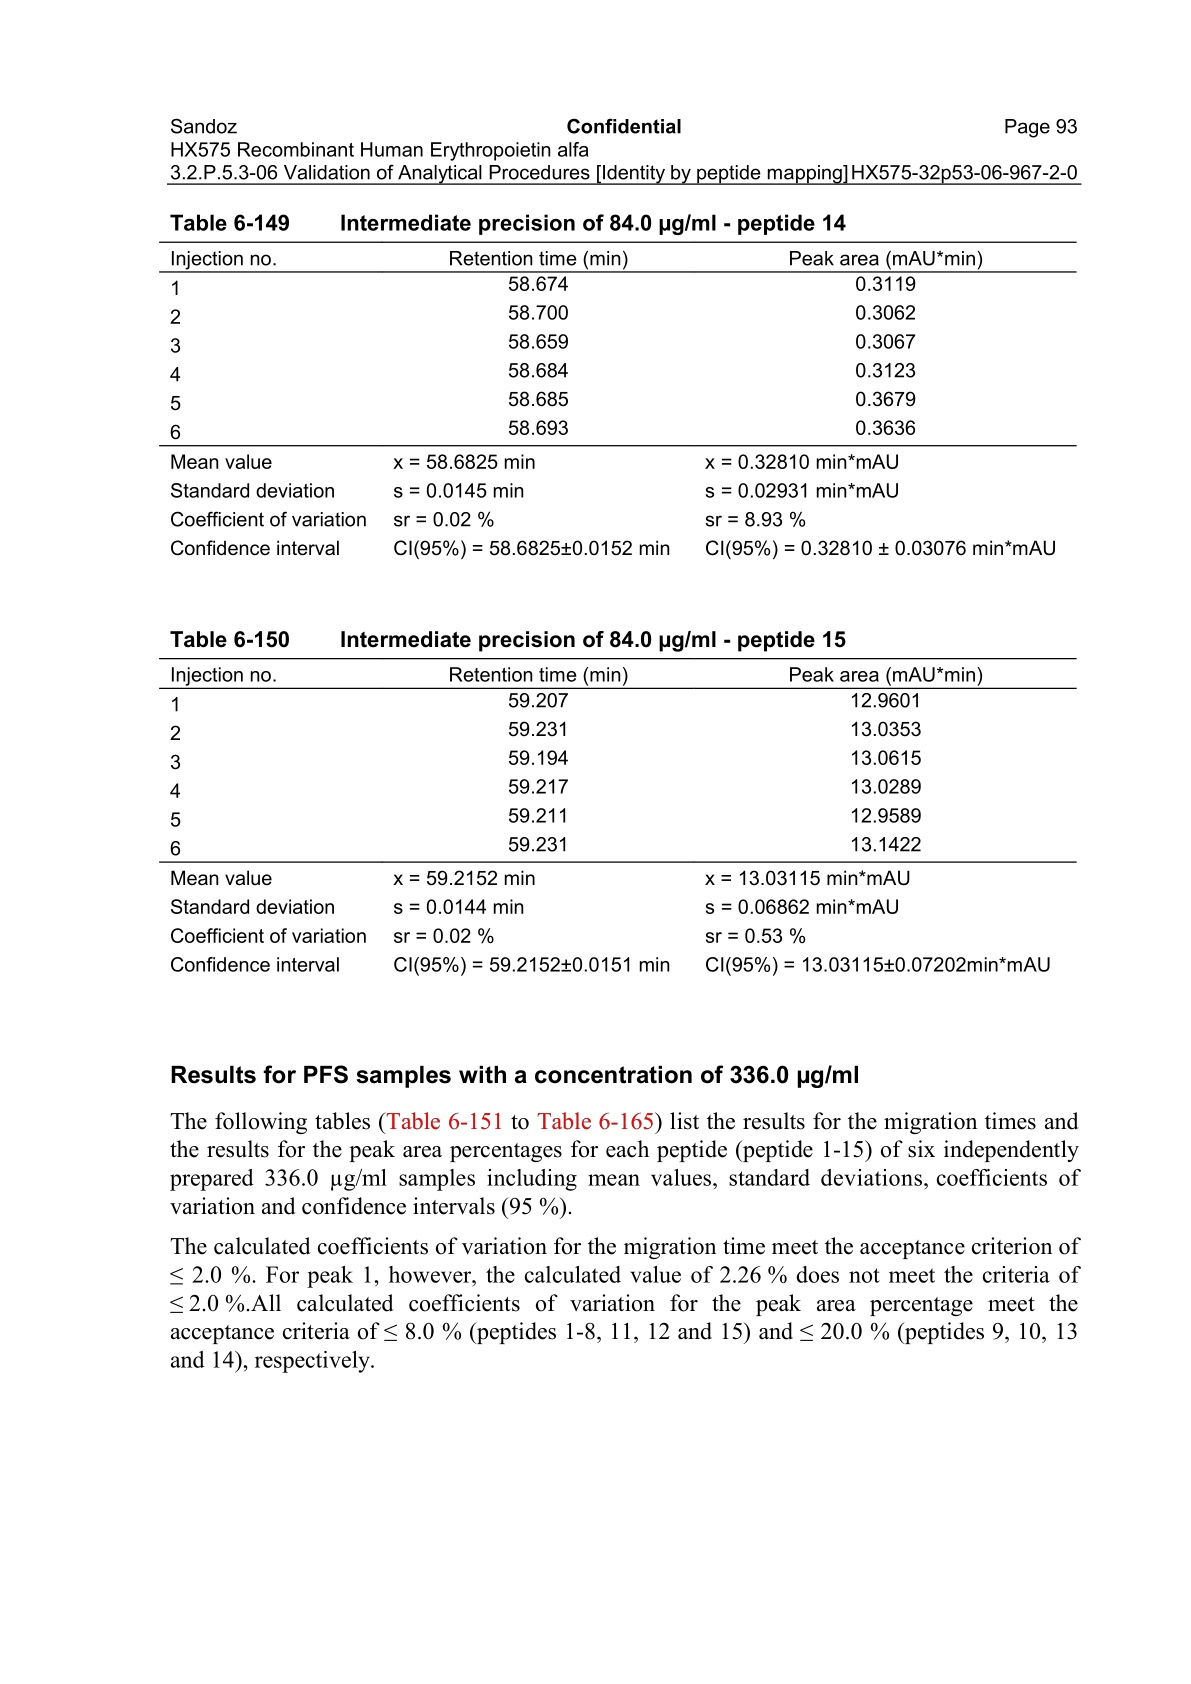partial_lined: (157, 240, 1078, 564), (156, 656, 1078, 979)
